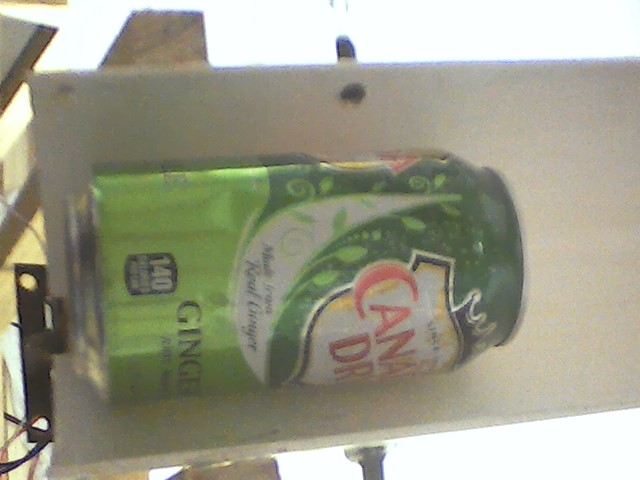lata: (59, 144, 537, 413)
